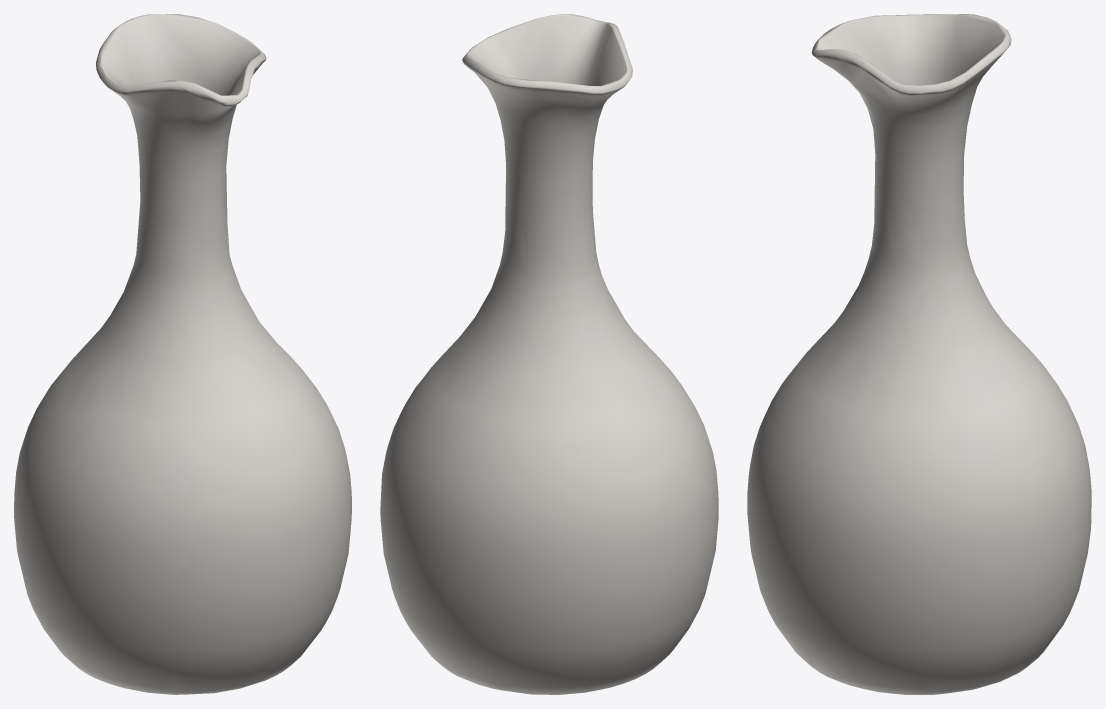
Rendered from ceramic_vase_01.glb.
The picture shows the model from 3 angles, left to right: view 1: azimuth 30°, elevation 25°; view 2: azimuth 150°, elevation 25°; view 3: azimuth 270°, elevation 25°; orthographic projection.
Parts seen in each view (by area): view 1: ceramic_vase_01; view 2: ceramic_vase_01; view 3: ceramic_vase_01.
Boxes of the visible parts, left/top/right/bottom form: ceramic_vase_01: left=14, top=14, right=351, bottom=694; ceramic_vase_01: left=380, top=14, right=718, bottom=694; ceramic_vase_01: left=747, top=14, right=1091, bottom=694.
Size of the model in its own units: 0.2036 by 0.4003 by 0.2035.
Materials: 1 (1 with a texture image).
